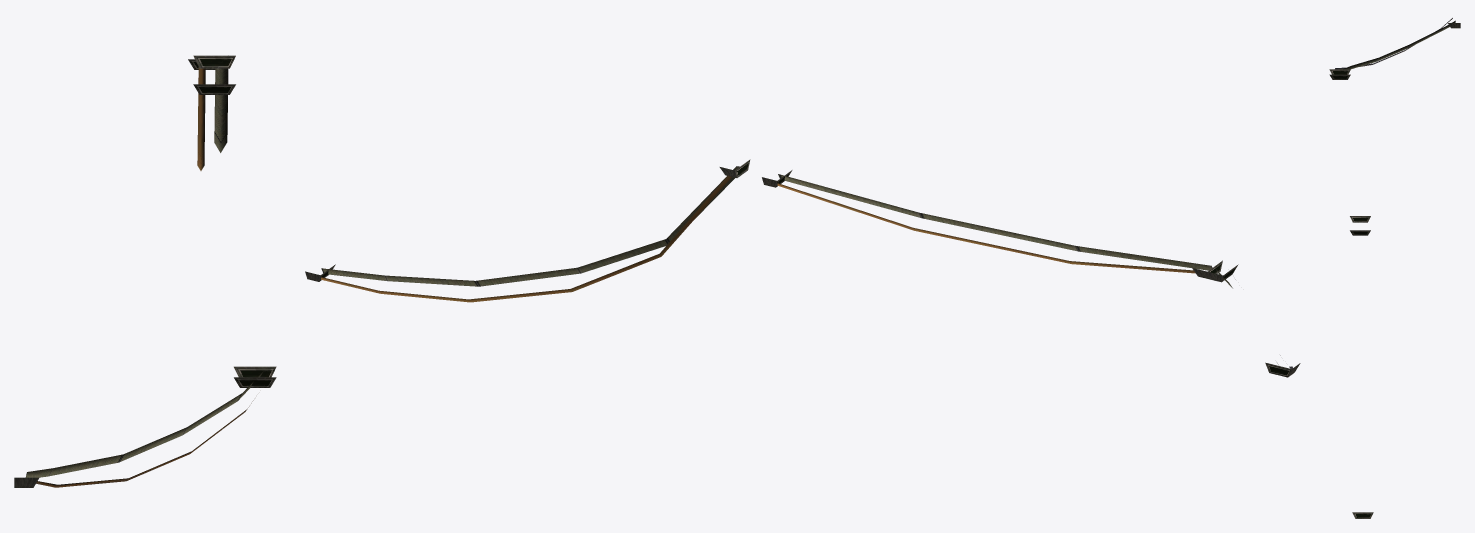
Rendered from M12_TopPipes_C.glb.
The picture shows the model from 3 angles, left to right: view 1: azimuth 90°, elevation 25°; view 2: azimuth 150°, elevation 25°; view 3: azimuth 270°, elevation 25°; orthographic projection. The views are drawn at different scales.
Visible parts, largest first — view 1: M12_TOPPIPES_C; view 2: M12_TOPPIPES_C; view 3: M12_TOPPIPES_C.
Part boxes in pixels (x1=…): M12_TOPPIPES_C: x1=14, y1=55, x2=276, y2=487; M12_TOPPIPES_C: x1=305, y1=159, x2=1300, y2=377; M12_TOPPIPES_C: x1=1329, y1=18, x2=1460, y2=518.
Size of the model in its own units: 12.86 by 2.5 by 2.
Materials: 1 (1 with a texture image).
